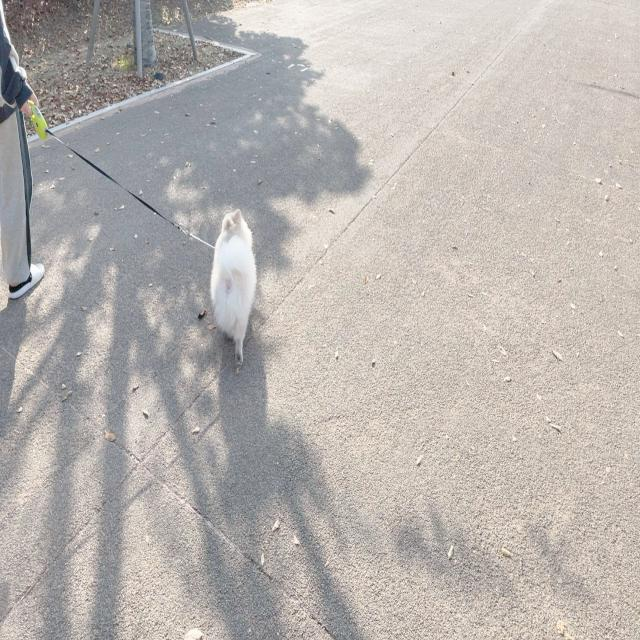Leashed_Dog: (0, 54, 256, 370)
